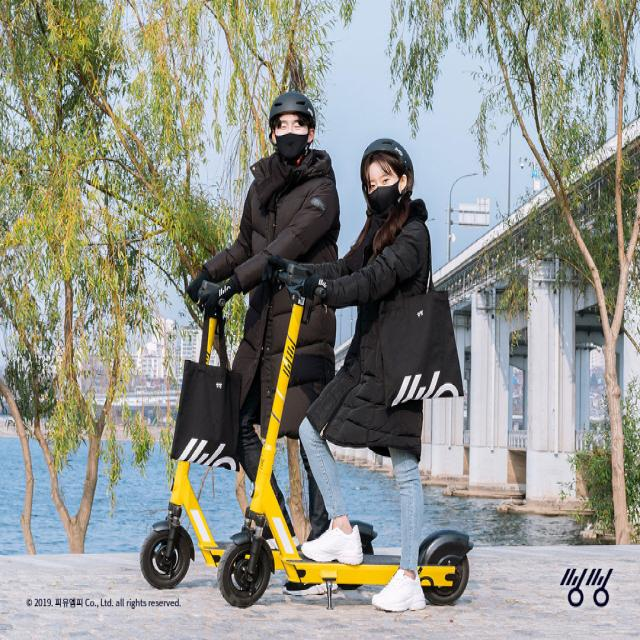helmet: (221, 101, 498, 626), (170, 67, 352, 589)
